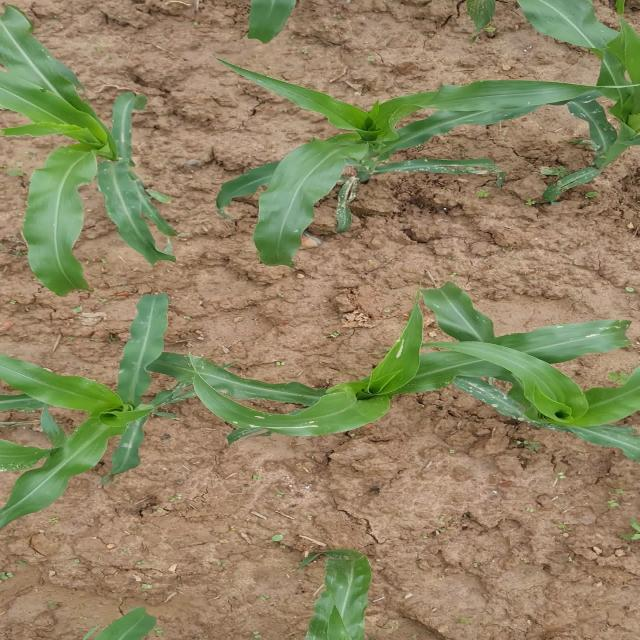maize: (9, 312, 640, 493), (210, 76, 495, 232), (3, 55, 201, 252), (530, 0, 639, 228), (302, 546, 403, 636)
